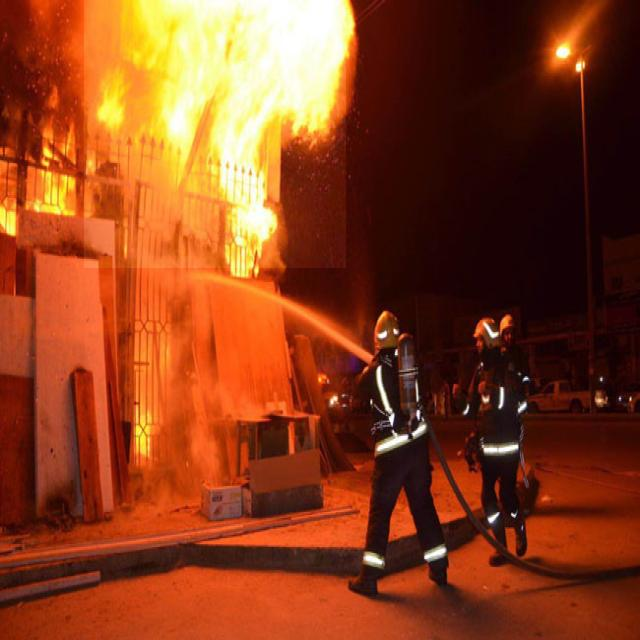Fire: (84, 0, 346, 268)
